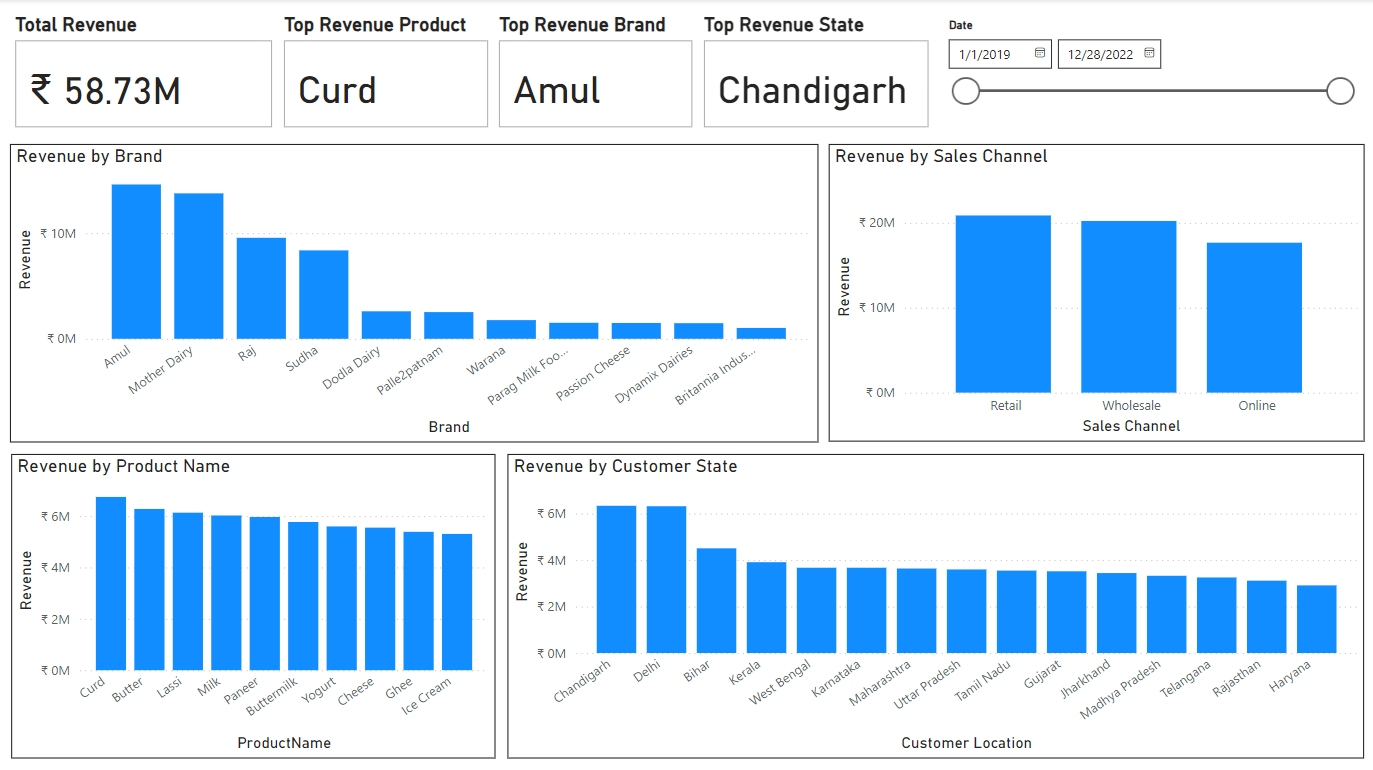

What the dashboard file says about the page in this screenshot:
{"tool":"powerbi","page":{"name":"DairyRevenue","canvas":[1280,720],"ordinal":0},"visuals":[{"type":"columnChart","title":"Revenue by Brand","fields":{"Category":["DairySales.Brand"],"Y":["Sum(DairySales.Approx. Total Revenue(INR))"]},"box":[8.9,135,752.2,277.4],"z":0},{"type":"columnChart","title":"Revenue by Product Name","fields":{"Y":["Sum(DairySales.Approx. Total Revenue(INR))"],"Category":["DairySales.Product Name"]},"box":[10,423.3,450,283.3],"z":1000},{"type":"columnChart","title":"Revenue by Customer State","fields":{"Y":["Sum(DairySales.Approx. Total Revenue(INR))"],"Category":["DairySales.Customer Location"]},"box":[471.7,423.3,796.7,283.3],"z":2000},{"type":"columnChart","title":"Revenue by Sales Channel","fields":{"Y":["Sum(DairySales.Approx. Total Revenue(INR))"],"Category":["DairySales.Sales Channel"]},"box":[770.5,135.4,498.3,276.5],"z":3000},{"type":"cardVisual","title":"Total Revenue","fields":{"Data":["DairySales.TotalRevenue"]},"box":[9.6,12.3,249.7,112.5],"z":4000},{"type":"slicer","fields":{"Values":["DairySales.Date"]},"box":[870,12.3,397.9,112.5],"z":5000},{"type":"cardVisual","title":"Top Revenue Product","fields":{"Data":["DairySales.TopProductName"]},"box":[259.3,12.3,200.3,112.5],"z":6000},{"type":"cardVisual","title":"Top Revenue Brand","fields":{"Data":["DairySales.TopBrandName"]},"box":[459.7,12.3,190.7,112.5],"z":7000},{"type":"cardVisual","title":"Top Revenue State","fields":{"Data":["DairySales.TopStateName"]},"box":[650.4,12.3,219.6,112.5],"z":8000}]}

Visuals, with their boxes in screenshot pixels (x1, y1, x2, y2), scaled from the page's 1280x720 canvas onto the 1373x770 screenshot:
"Revenue by Brand" columnChart: bbox(10, 144, 816, 441)
"Revenue by Product Name" columnChart: bbox(11, 453, 493, 756)
"Revenue by Customer State" columnChart: bbox(506, 453, 1361, 756)
"Revenue by Sales Channel" columnChart: bbox(826, 145, 1361, 441)
"Total Revenue" cardVisual: bbox(10, 13, 278, 133)
slicer - DairySales.Date: bbox(933, 13, 1360, 133)
"Top Revenue Product" cardVisual: bbox(278, 13, 493, 133)
"Top Revenue Brand" cardVisual: bbox(493, 13, 698, 133)
"Top Revenue State" cardVisual: bbox(698, 13, 933, 133)
